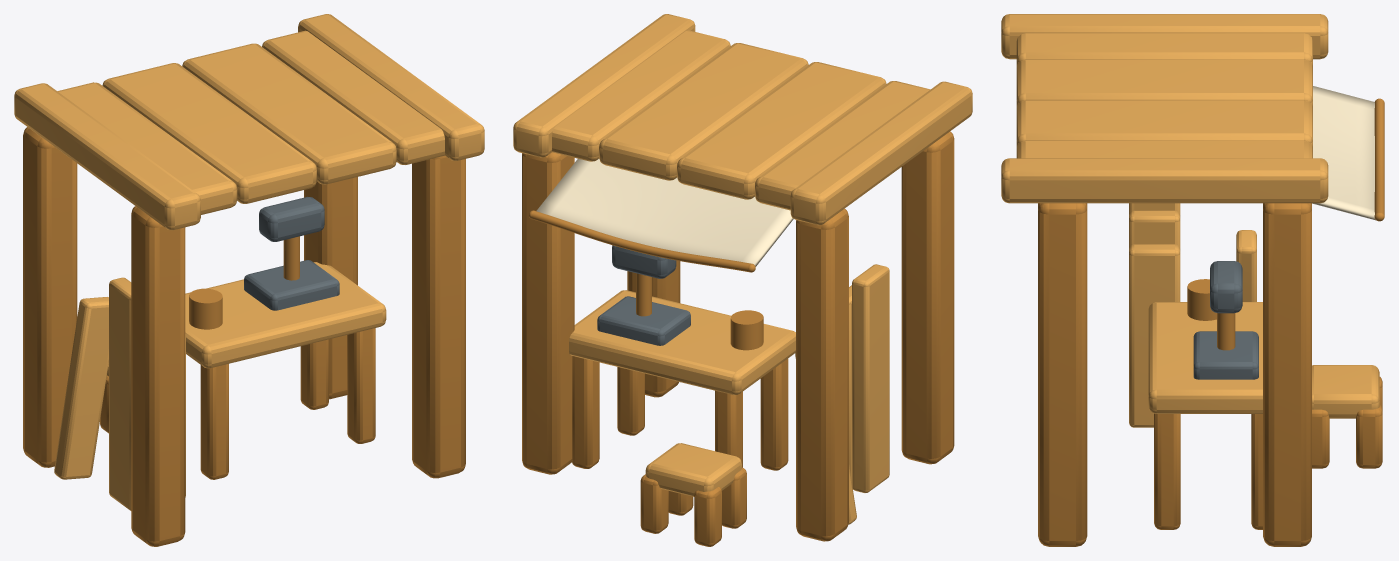
The model's file is workshop.fbx.
3 renders of one model, left to right at view 1: azimuth 30°, elevation 25°; view 2: azimuth 150°, elevation 25°; view 3: azimuth 270°, elevation 25°, orthographic. The views are drawn at different scales.
Parts seen in each view (by area): view 1: workshop; view 2: workshop; view 3: workshop.
Boxes of the visible parts, box(x1,y1,x2,y2) form: workshop: box(14, 14, 484, 546); workshop: box(513, 14, 972, 546); workshop: box(1001, 14, 1384, 546).
Size of the model in its own units: 2 by 2.2 by 2.
1 material, 1 textured.
